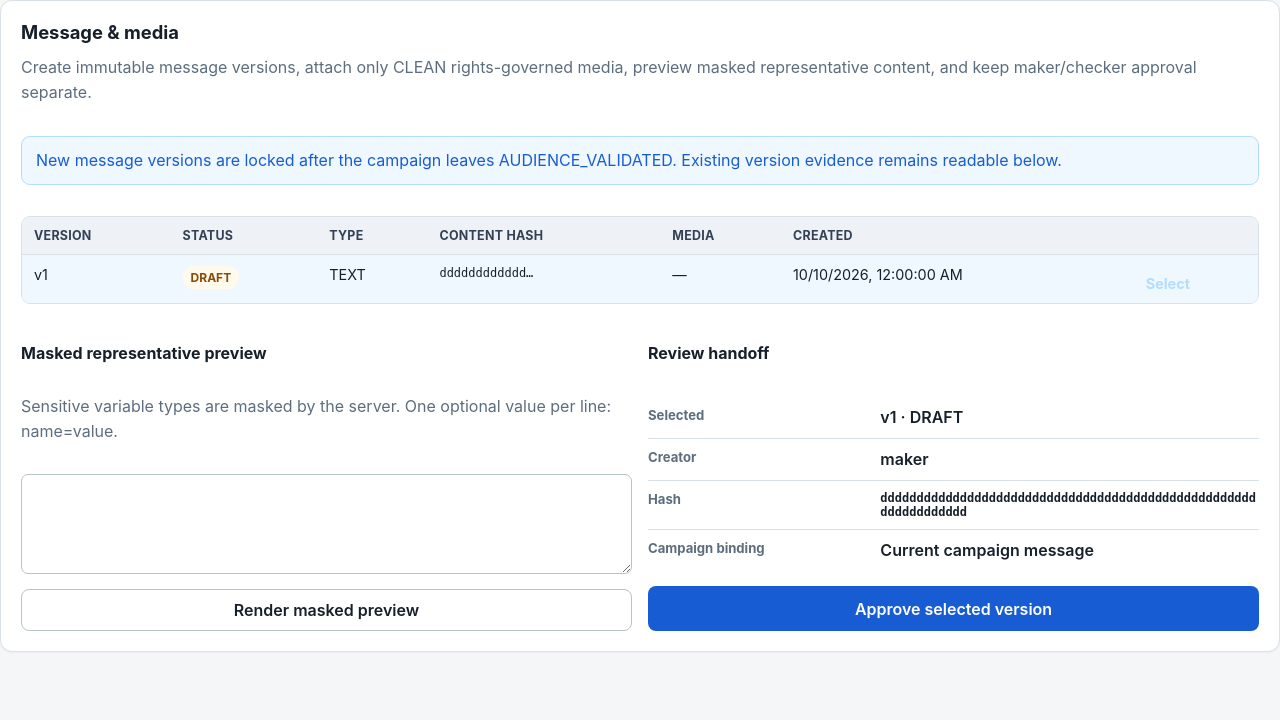
Test: enforces maker-checker separation and lets an independent checker complete message approval in two explicit steps
What coordinates should you click on to do the following:
click the button "Approve selected version"
I would click on:
 (954, 609)
Its box is x1=648 y1=586 x2=1259 y2=631.
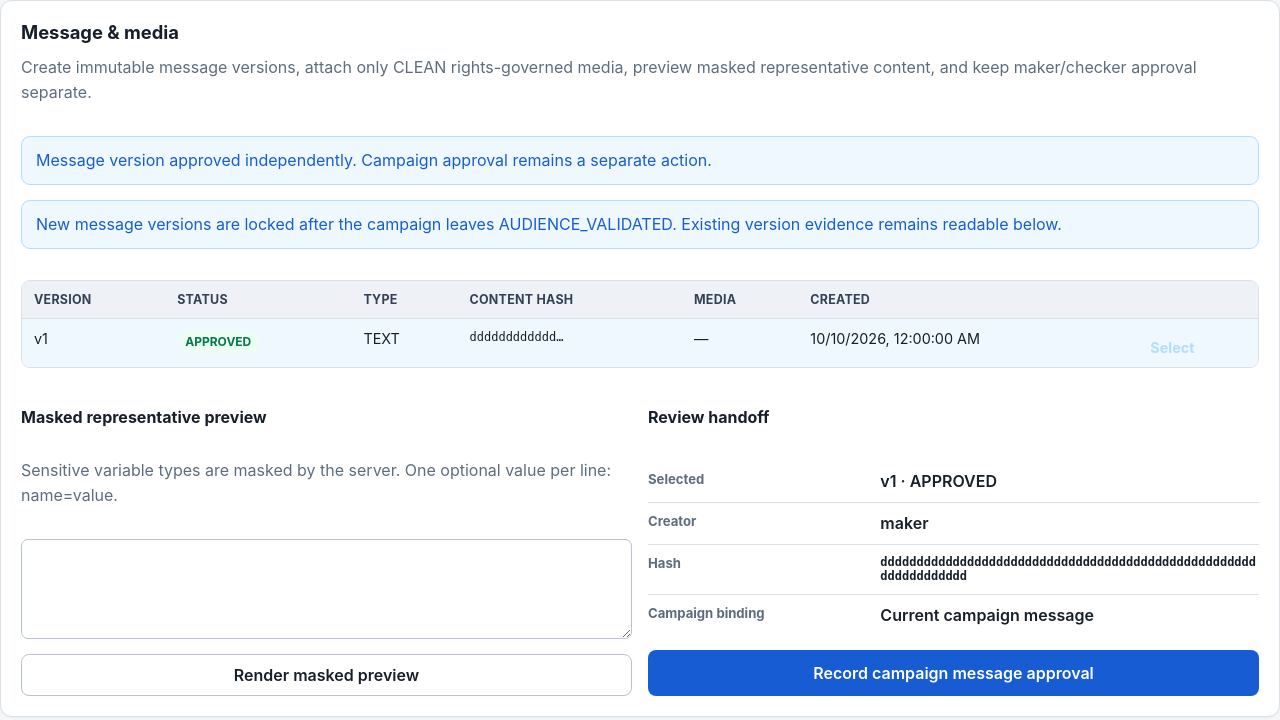
Now the text "Message version approved independently" is shown, box x1=36 y1=150 x2=712 y2=170
What coordinates should you click on to do the following:
click the button "Record campaign message approval"
I would click on:
 (954, 673)
Its box is x1=648 y1=650 x2=1259 y2=696.
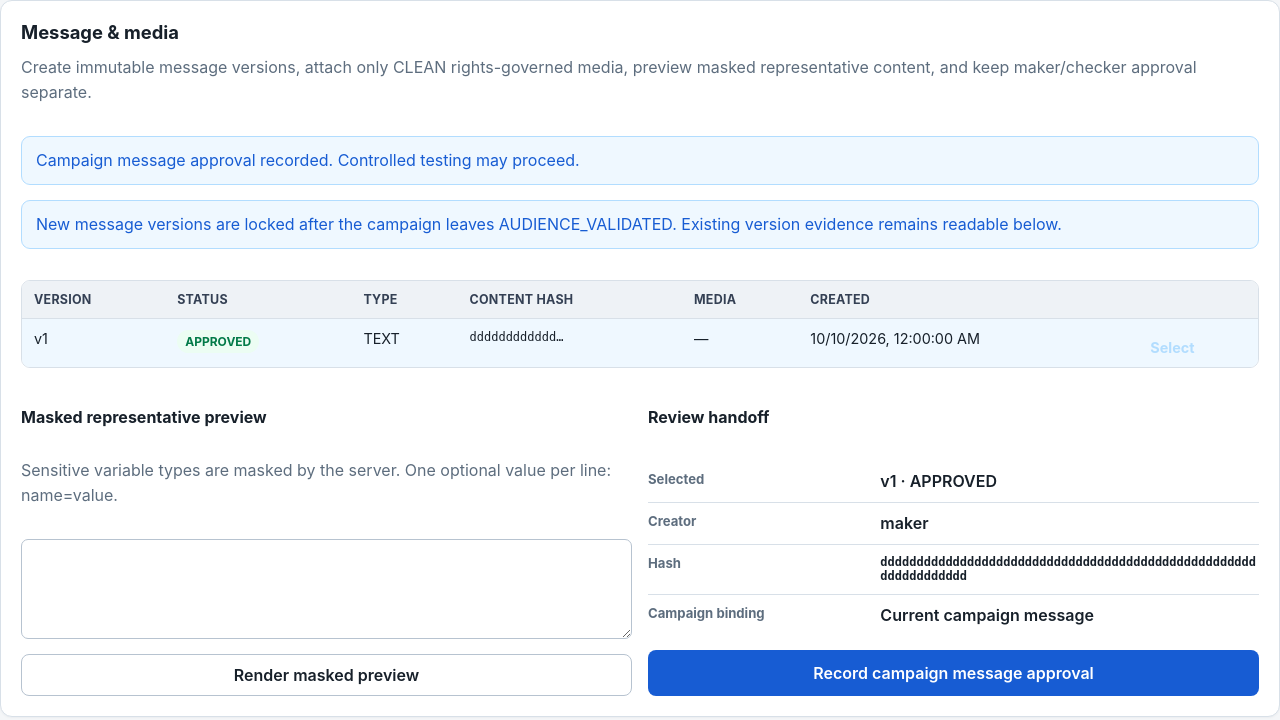
Now the text "Campaign message approval recorded. Controlled testing may proceed." is shown, box x1=21 y1=136 x2=1259 y2=185
